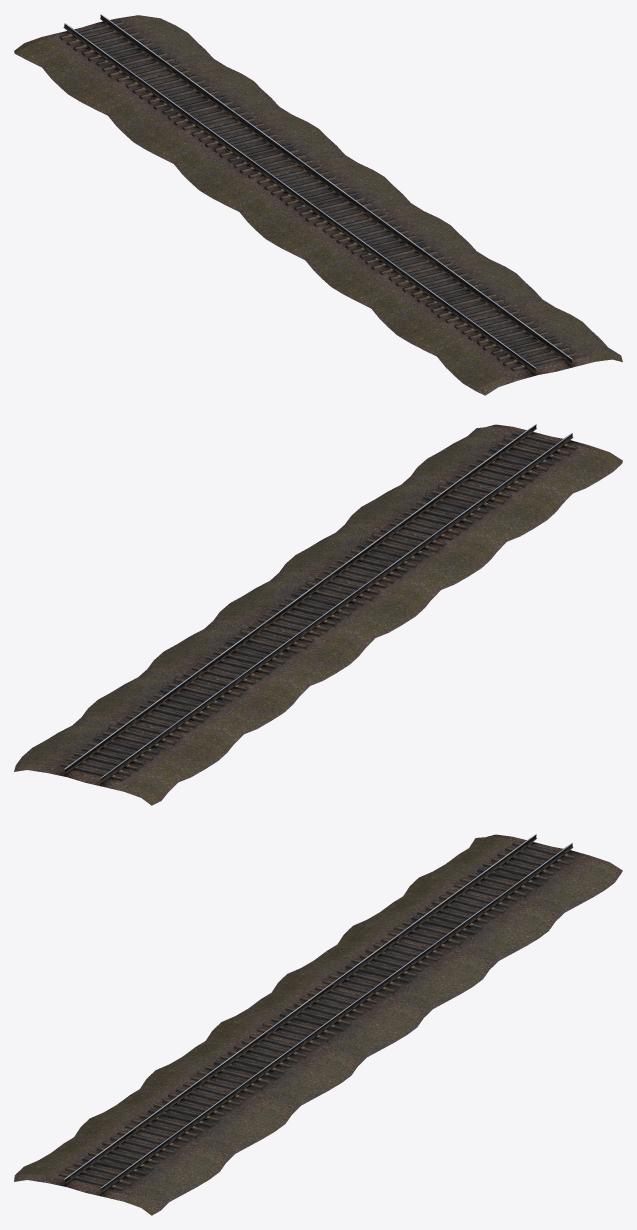
The model's file is 1track_35_der_TSM.gltf.
3 views of the same model, one above another, from view 1: azimuth 30°, elevation 25°; view 2: azimuth 150°, elevation 25°; view 3: azimuth 330°, elevation 25° (orthographic).
Size of the model in its own units: 6.7 by 0.6438 by 35.8.
1 material, 1 textured.
